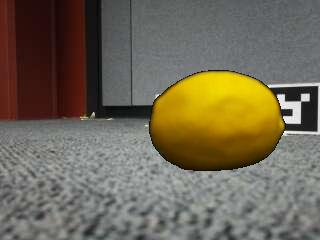lemon: (153, 72, 285, 170)
